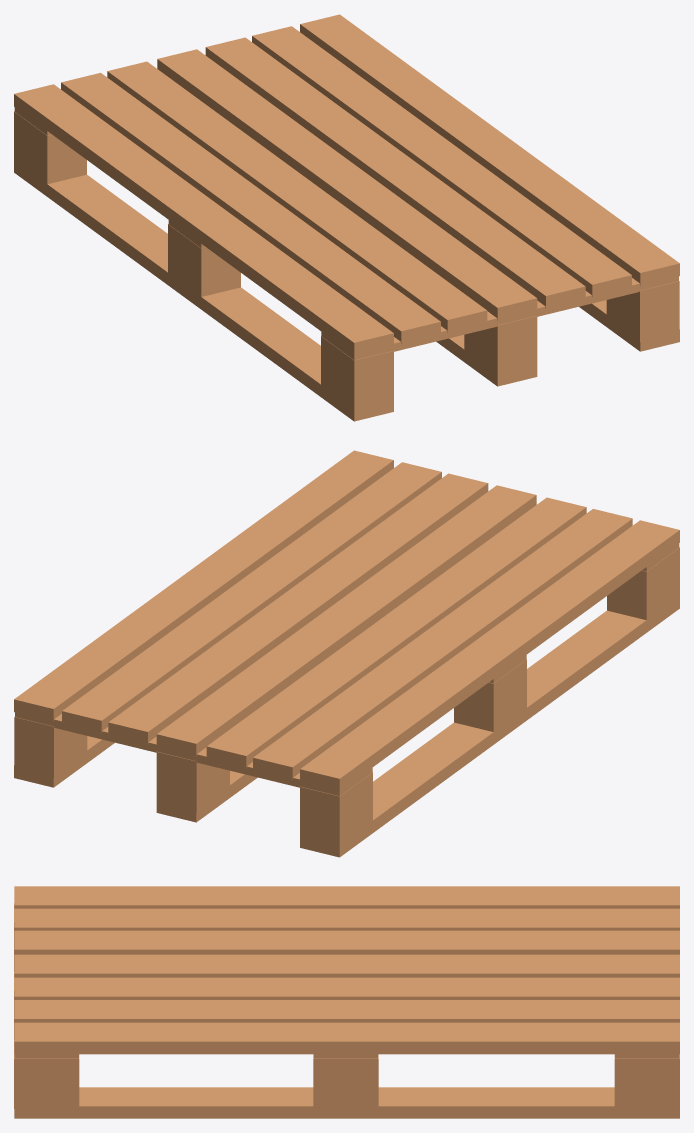
Rendered from Palette.fbx.
3 renders of one model, top to bottom at view 1: azimuth 30°, elevation 25°; view 2: azimuth 150°, elevation 25°; view 3: azimuth 270°, elevation 25°, orthographic. The views are drawn at different scales.
Parts seen in each view (by area): view 1: Cube.020; view 2: Cube.020; view 3: Cube.020.
Boxes of the visible parts, <box> form: Cube.020: <box>14,14,679,421</box>; Cube.020: <box>14,450,679,857</box>; Cube.020: <box>14,886,679,1118</box>.
Size of the model in its own units: 532 by 123 by 963.
